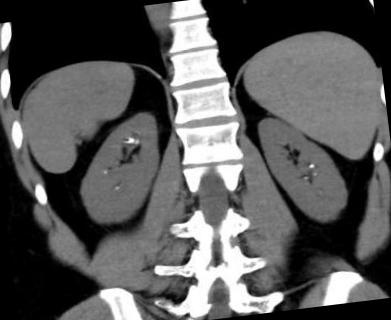Tas_Var: (125, 135, 134, 146), (307, 160, 316, 169), (310, 170, 320, 177), (112, 184, 122, 191), (102, 168, 110, 175), (134, 137, 140, 146), (302, 173, 309, 180)
